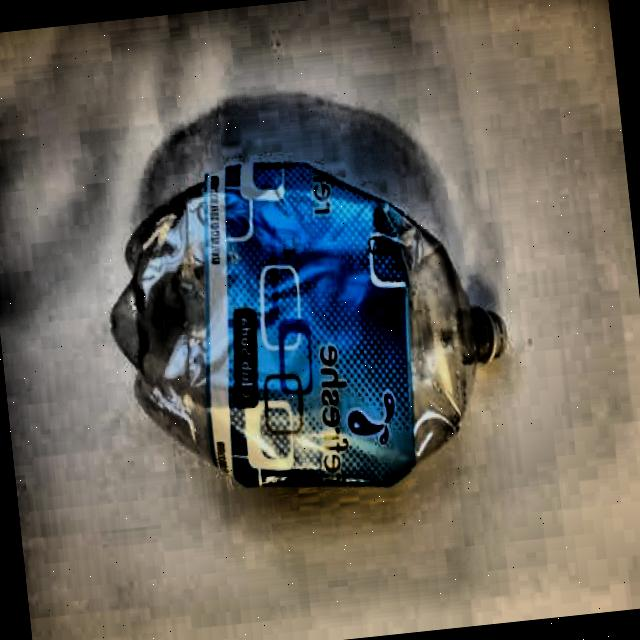plastic: (89, 143, 524, 525)
